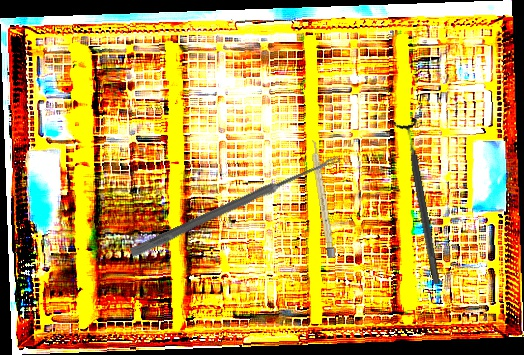Fixation Ring: (391, 117, 450, 287)
Scalpel Handle: (309, 139, 336, 259)
Surgical Spoon: (129, 152, 342, 259)
